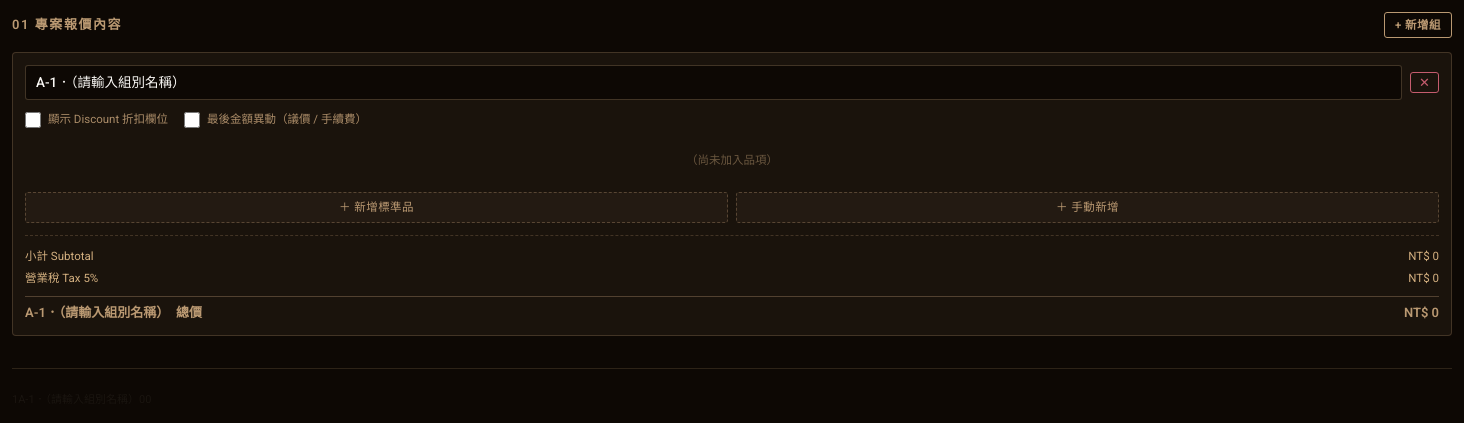
GroupsSection — group lifecycle › confirming the delete dialog removes the only group → empty hint returns
Step 1. Click the button named "刪除組別" → (1425, 83), box [1410,72,1439,93]
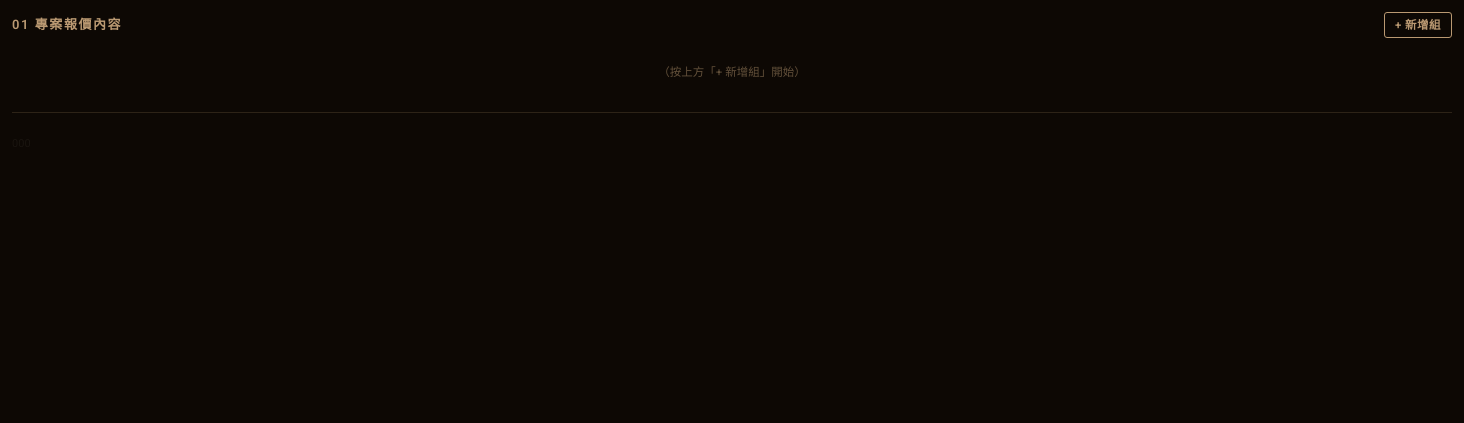
expect the text "（按上方「+ 新增組」開始）" is shown: met, box [658,65,806,79]
